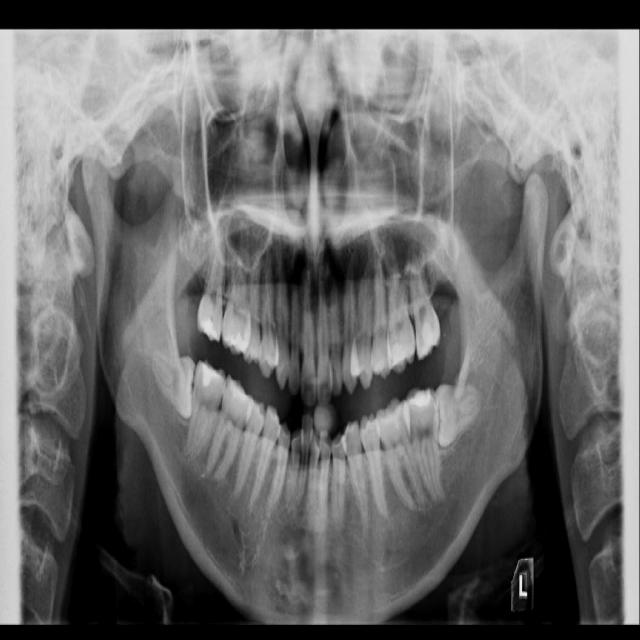Filling: (390, 342, 412, 367), (200, 364, 224, 386), (221, 331, 247, 351), (198, 316, 218, 339), (422, 322, 437, 351), (408, 390, 432, 407)
impacted tooth: (151, 346, 194, 418), (435, 385, 483, 448)
